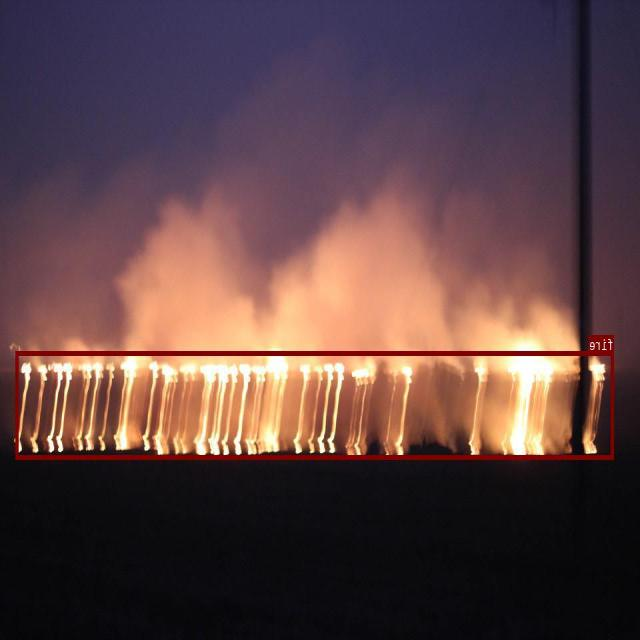fire: (17, 350, 614, 458)
